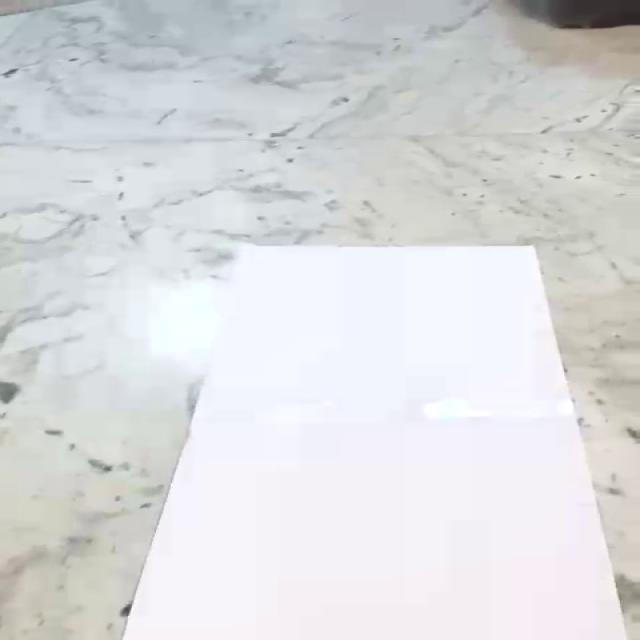road: (121, 245, 628, 640)
